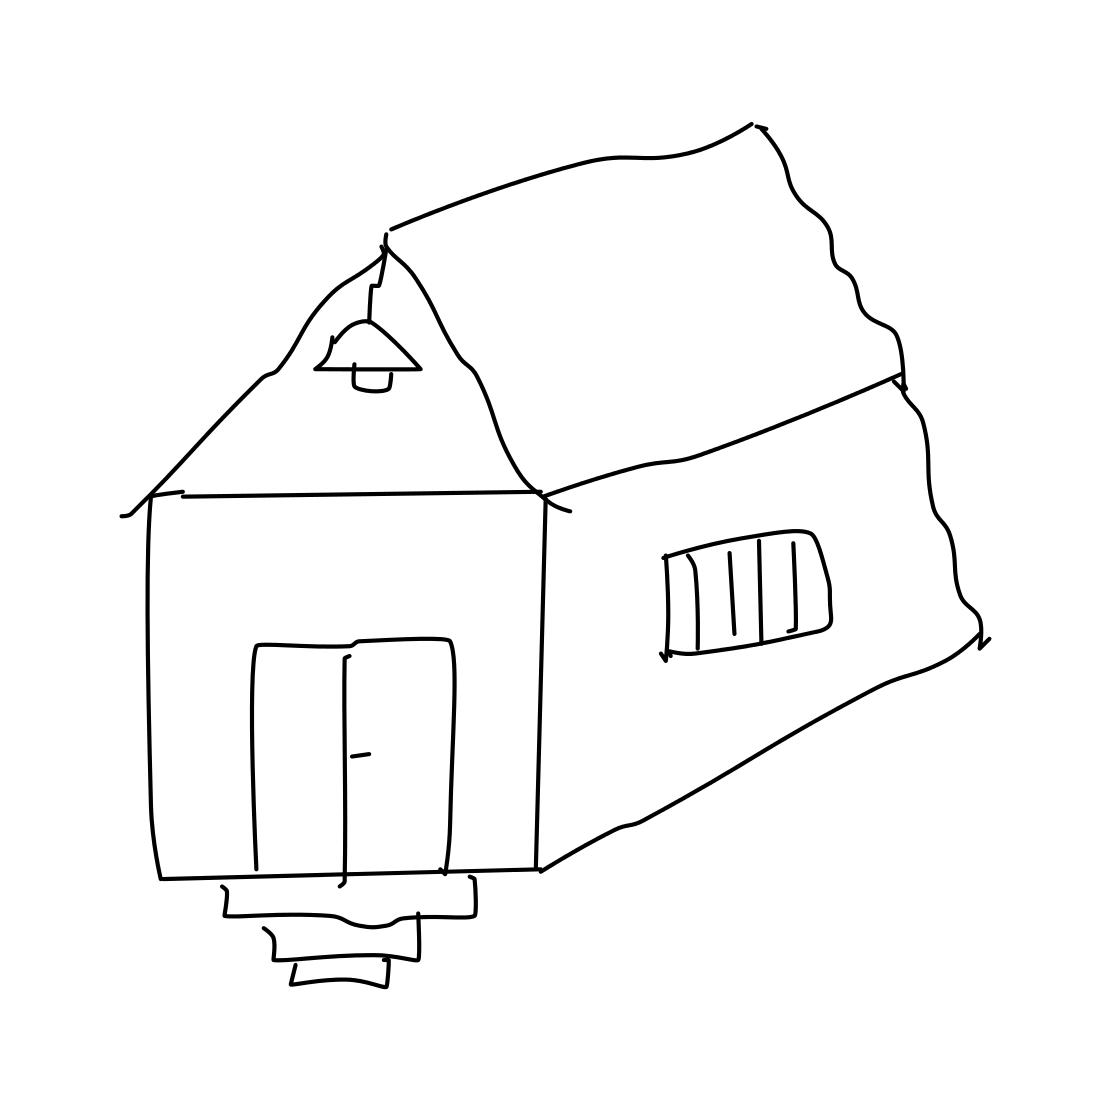House: (60, 108, 1010, 883)
